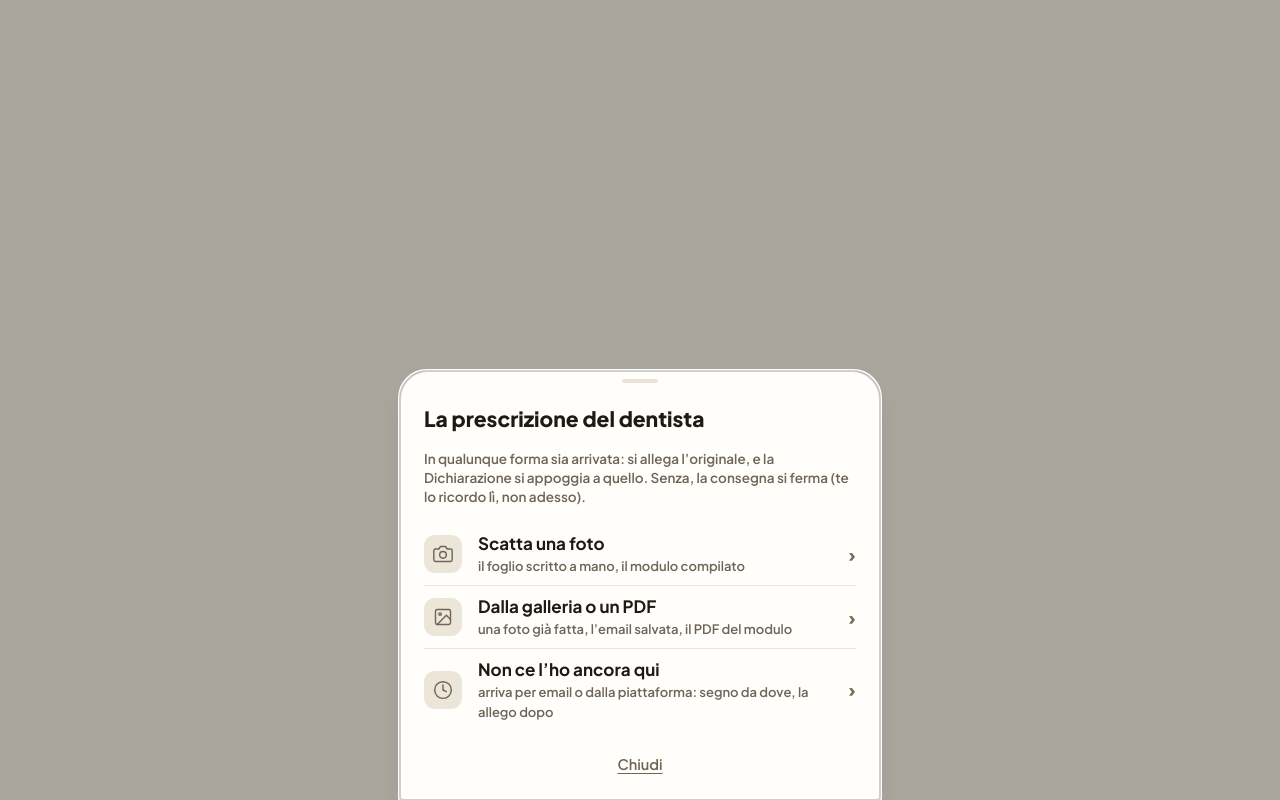
T9 — quando qualcosa non riesce › esito «fonte_congelata» (409) → la SUA frase, non quella generica
Click the text "Non ce l’ho ancora qui". click: [569, 669]
box: [478,658,660,680]
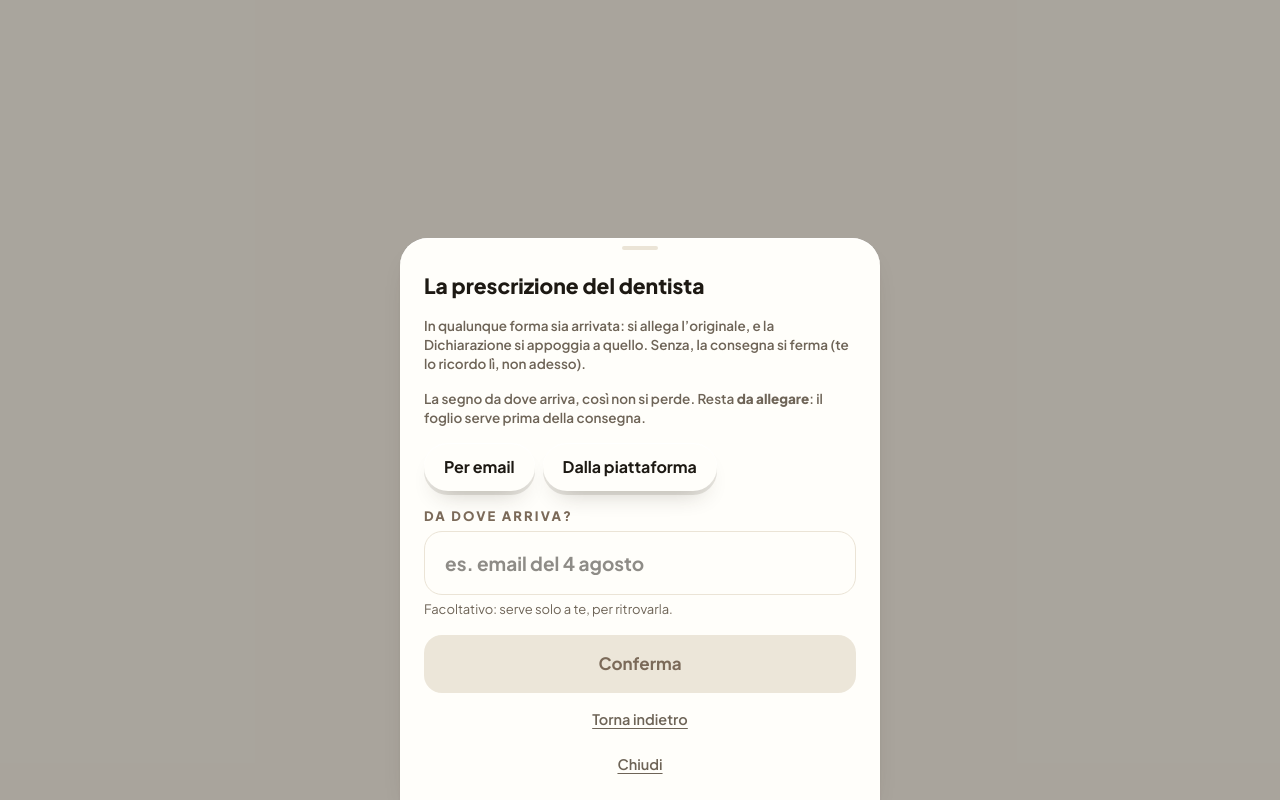
Click the button "Per email". click: [479, 468]
box: [424,444,535,492]
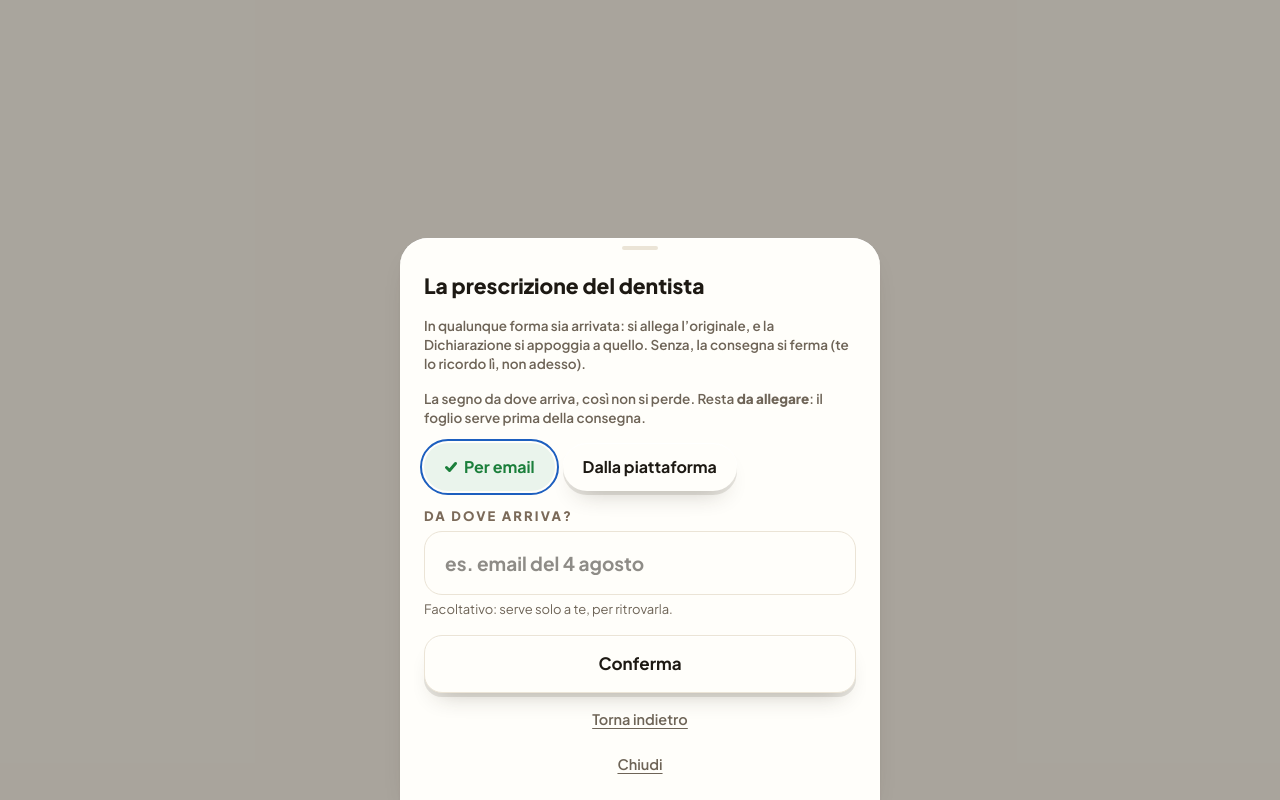
Click the button "Conferma". click: [640, 664]
box: [424,634,856,692]
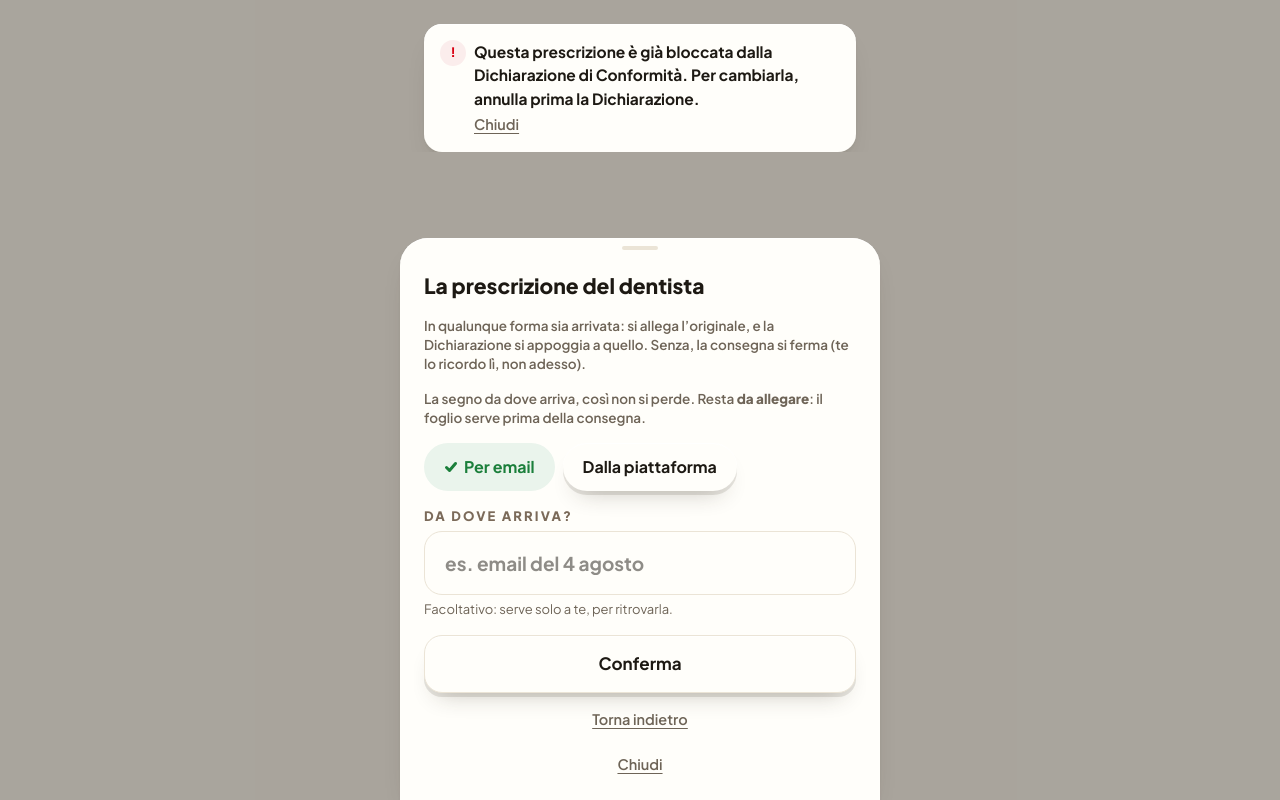
Expected: the message is shown, [424,24,856,152]
Expected: the text "Questa prescrizione è già bloccata dalla Dichiarazione di Conformità. Per cambiarla, annulla prima la Dichiarazione." is shown, [474,42,799,108]
